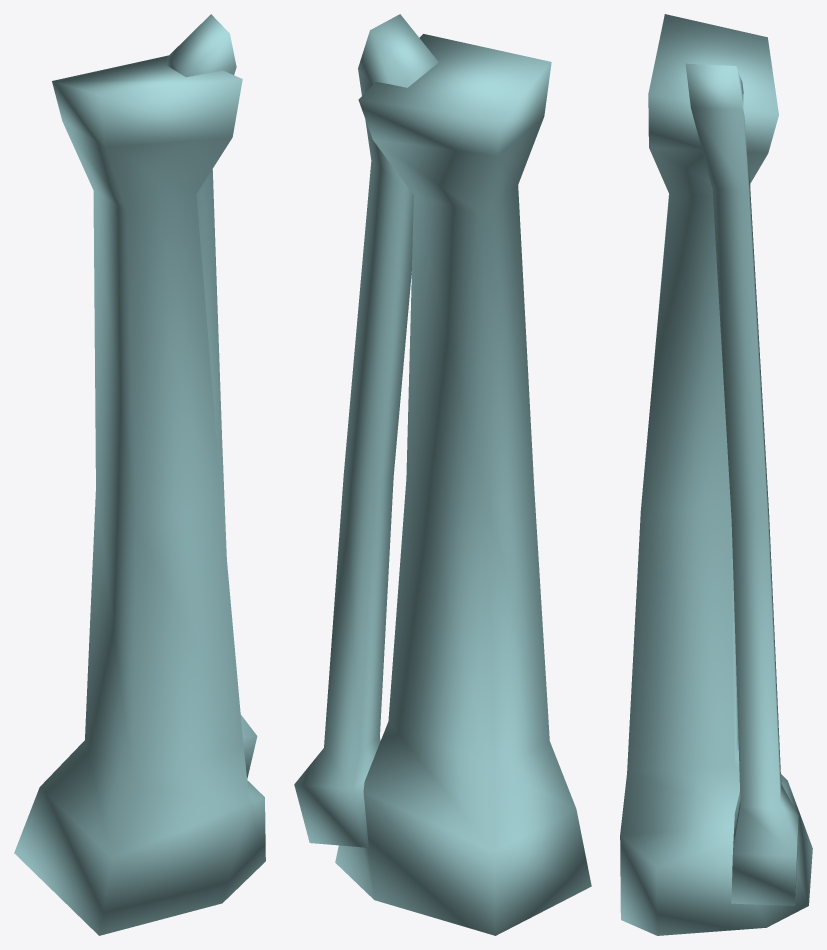
The model's file is Skelly_shin.R.fbx.
The picture shows the model from 3 angles, left to right: view 1: azimuth 30°, elevation 25°; view 2: azimuth 150°, elevation 25°; view 3: azimuth 270°, elevation 25°; orthographic projection. The views are drawn at different scales.
Visible parts, largest first — view 1: Skelly_shin.R; view 2: Skelly_shin.R; view 3: Skelly_shin.R.
Boxes of the visible parts, x1,y1,x2,y2 form: Skelly_shin.R: (14, 14, 265, 935); Skelly_shin.R: (294, 14, 591, 935); Skelly_shin.R: (620, 14, 812, 935).
Size of the model in its own units: 10.86 by 41.42 by 8.22.
